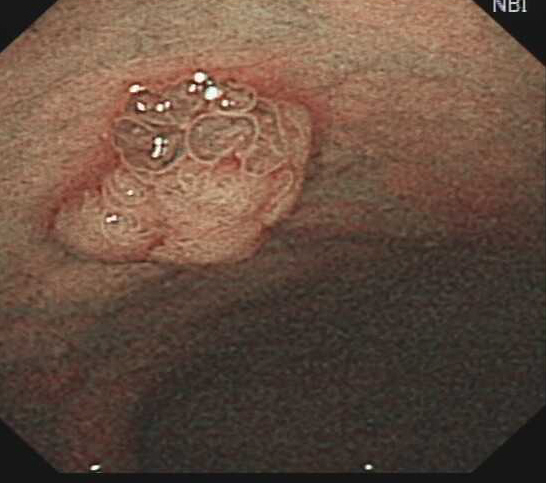adenoma: (47, 102, 315, 271)
